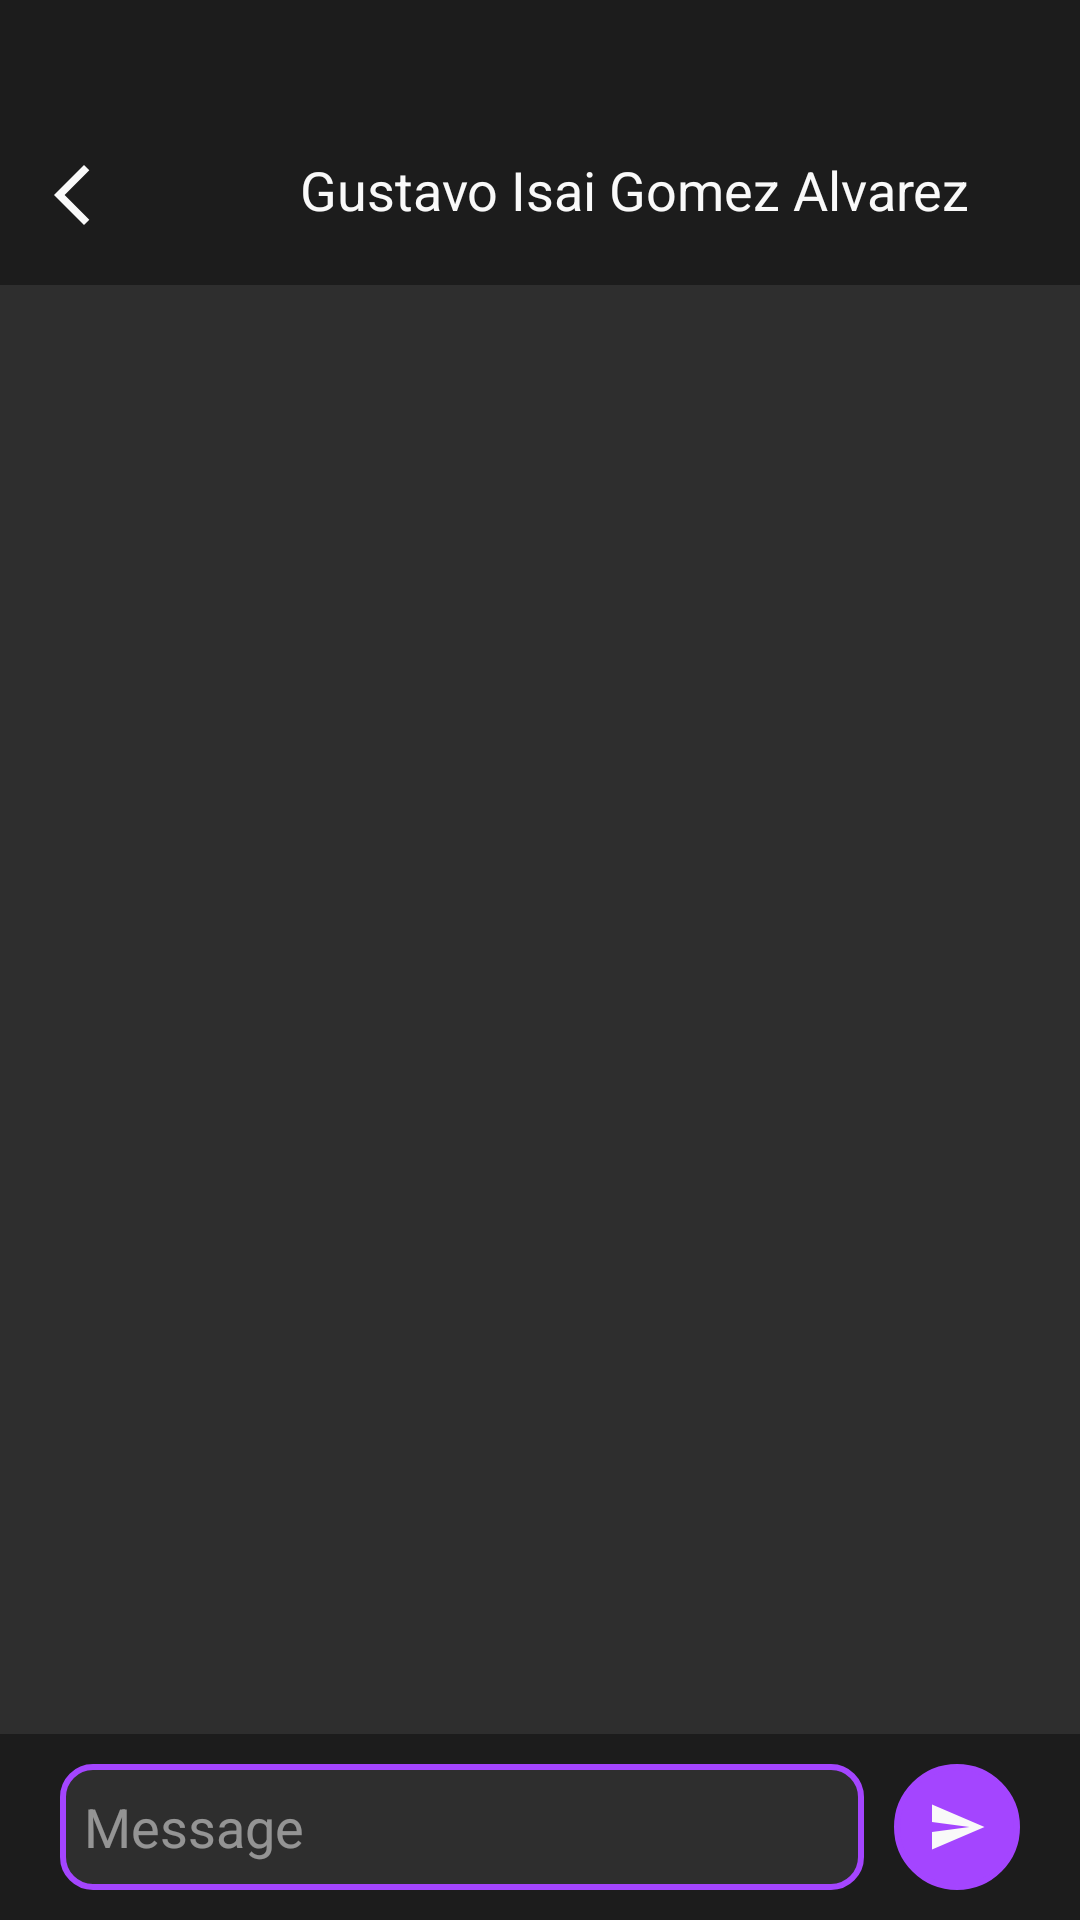

Icons on this 1080w x 1920h Android screen, each with its box as (x1, y1, x2, y2):
Button Back: (54, 165, 89, 225)
